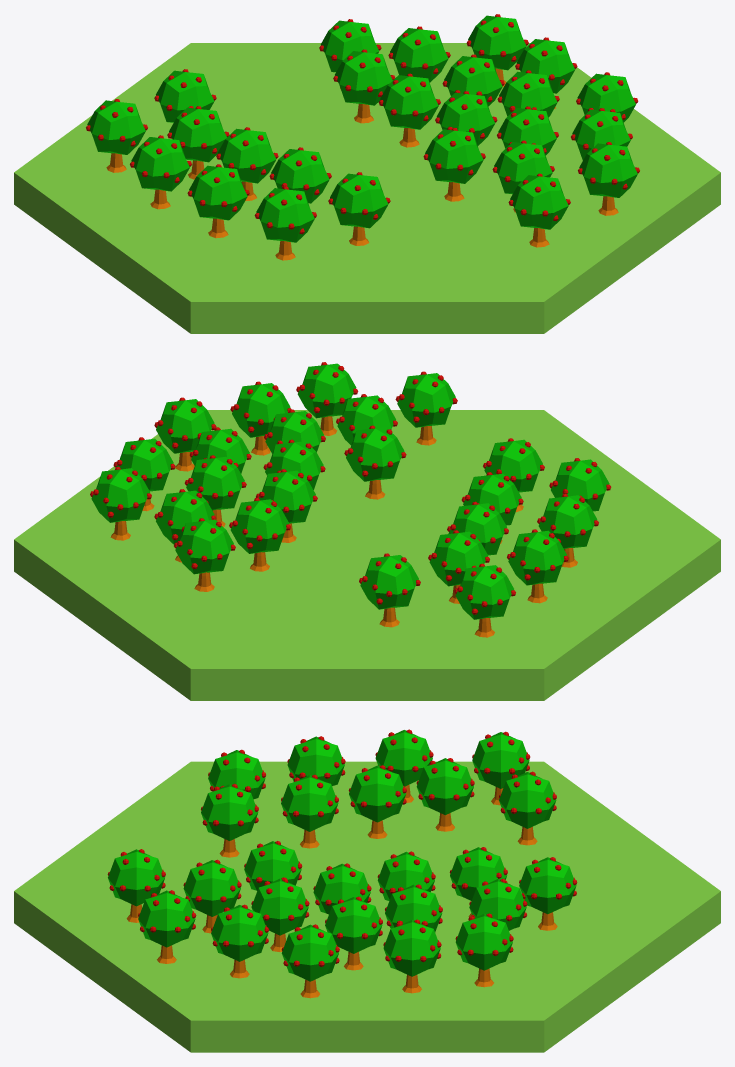
Rendered from HexaApples.fbx.
The picture shows the model from 3 angles, top to bottom: view 1: azimuth 30°, elevation 25°; view 2: azimuth 150°, elevation 25°; view 3: azimuth 270°, elevation 25°; orthographic projection.
Parts seen in each view (by area): view 1: Cylinder, Cube.002, Cube.006, Cube.022, Cube.023, Cube.010, Cube.024, Cube.004, Cube, Cube.017, Cube.009, Cube.005 (+14 smaller); view 2: Cylinder, Cube.006, Cube.007, Cube.017, Cube.004, Cube.009, Cube.008, Cube.013, Cube.023, Cube.022, Cube.019, Cube.002 (+14 smaller); view 3: Cylinder, Cube.019, Cube.005, Cube.007, Cube.003, Cube.020, Cube.024, Cube.014, Cube.013, Cube.022, Cube.001, Cube.008 (+14 smaller).
Part boxes in pixels (<box>): Cylinder: <box>14,43,720,333</box>; Cube.002: <box>187,164,249,238</box>; Cube.006: <box>86,99,147,172</box>; Cube.022: <box>578,142,639,215</box>; Cube.023: <box>508,173,570,247</box>; Cube.010: <box>378,73,440,147</box>; Cube.024: <box>328,172,390,245</box>; Cube.004: <box>130,135,191,209</box>; Cube: <box>254,186,316,260</box>; Cube.017: <box>423,127,485,201</box>; Cube.009: <box>333,49,394,123</box>; Cube.005: <box>167,106,229,179</box>; Cylinder: <box>14,410,720,700</box>; Cube.006: <box>454,563,515,637</box>; Cube.007: <box>359,553,420,627</box>; Cube.017: <box>344,425,406,499</box>; Cube.004: <box>507,529,568,603</box>; Cube.009: <box>229,498,290,571</box>; Cube.008: <box>174,518,235,591</box>; Cube.013: <box>90,466,151,540</box>; Cube.023: <box>395,371,457,445</box>; Cube.022: <box>296,362,358,435</box>; Cube.019: <box>154,397,216,471</box>; Cube.002: <box>537,493,598,567</box>; Cylinder: <box>14,761,720,1052</box>; Cube.019: <box>281,924,339,998</box>; Cube.005: <box>416,758,474,831</box>; Cube.007: <box>499,771,556,845</box>; Cube.003: <box>348,765,406,838</box>; Cube.020: <box>211,904,268,978</box>; Cube.024: <box>201,783,258,857</box>; Cube.014: <box>383,919,441,993</box>; Cube.013: <box>455,913,513,987</box>; Cube.022: <box>138,890,196,963</box>; Cube.001: <box>281,774,338,848</box>; Cube.008: <box>519,857,577,930</box>.
Size of the model in its own units: 173 by 30.87 by 200.
